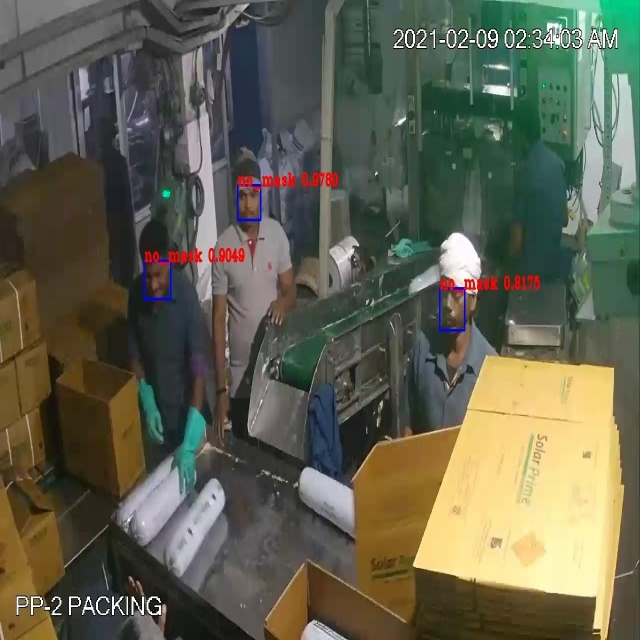Guantes: (166, 399, 218, 505), (117, 362, 174, 457)
Sin_guantes: (199, 254, 240, 462), (262, 260, 303, 333)
